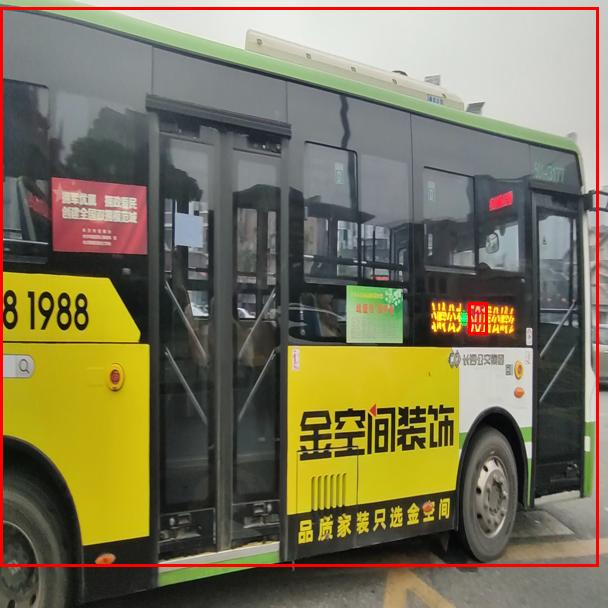bus: (0, 7, 598, 566)
screen: (468, 302, 487, 334)
